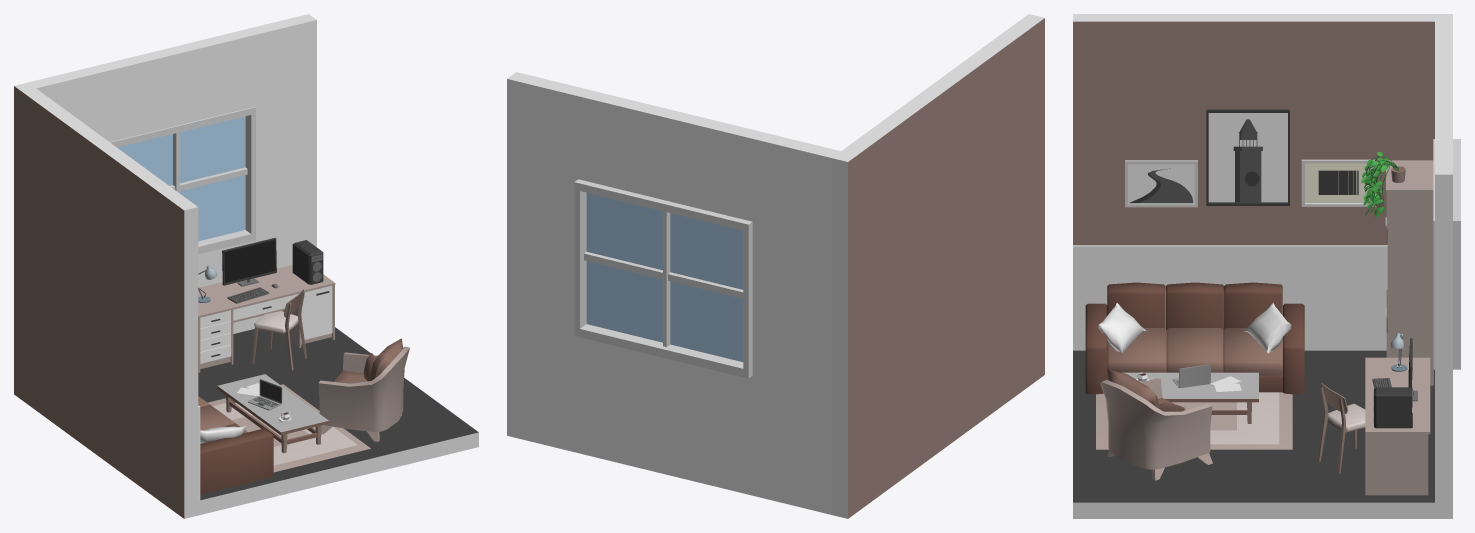
Rendered from room_17.glb.
3 renders of one model, left to right at view 1: azimuth 30°, elevation 25°; view 2: azimuth 150°, elevation 25°; view 3: azimuth 270°, elevation 25°, orthographic. The views are drawn at different scales.
Visible parts, largest first — view 1: Walls_149.003, Walls_011.009, Walls_006.053, Walls_006.055, window_008.002, office_table_014.001, armchair_017.002, sofa_027.001, coffee_table_019.003, carpet_003.001, Walls_006.051, electronics_031.010 (+4 smaller); view 2: Walls_149.003, Walls_006.051, window_008.002, Walls_006.053, Walls_006.054, Walls_006.055; view 3: Walls_149.003, Walls_011.009, sofa_027.001, Walls_003.076, closet_018.001, picture_001.003, armchair_017.002, office_table_014.001, Walls_006.053, carpet_003.001, picture_010.001, picture_011.002 (+8 smaller).
Boxes of the visible parts, left/top/right/bottom form: Walls_149.003: left=14, top=82, right=198, bottom=518; Walls_011.009: left=198, top=327, right=478, bottom=515; Walls_006.053: left=246, top=14, right=316, bottom=328; Walls_006.055: left=98, top=29, right=253, bottom=141; window_008.002: left=110, top=107, right=255, bottom=254; office_table_014.001: left=198, top=265, right=335, bottom=372; armchair_017.002: left=318, top=338, right=409, bottom=441; sofa_027.001: left=198, top=396, right=273, bottom=494; coffee_table_019.003: left=217, top=374, right=328, bottom=453; carpet_003.001: left=208, top=384, right=370, bottom=472; Walls_006.051: left=28, top=65, right=106, bottom=139; electronics_031.010: left=222, top=238, right=276, bottom=286; Walls_149.003: left=831, top=14, right=1044, bottom=518; Walls_006.051: left=750, top=131, right=840, bottom=514; window_008.002: left=574, top=179, right=752, bottom=378; Walls_006.053: left=507, top=72, right=588, bottom=453; Walls_006.054: left=580, top=337, right=750, bottom=494; Walls_006.055: left=580, top=90, right=759, bottom=220; Walls_149.003: left=1073, top=14, right=1452, bottom=245; Walls_011.009: left=1073, top=350, right=1434, bottom=518; sofa_027.001: left=1085, top=282, right=1304, bottom=394; Walls_003.076: left=1073, top=245, right=1387, bottom=350; closet_018.001: left=1385, top=160, right=1433, bottom=385; picture_001.003: left=1206, top=109, right=1289, bottom=205; armchair_017.002: left=1100, top=369, right=1212, bottom=480; office_table_014.001: left=1365, top=357, right=1430, bottom=495; Walls_006.053: left=1435, top=140, right=1452, bottom=518; carpet_003.001: left=1096, top=392, right=1292, bottom=449; picture_010.001: left=1125, top=160, right=1197, bottom=207; picture_011.002: left=1301, top=159, right=1375, bottom=206.
Bounding box in the file's own units: 4.2 × 4.2 × 4.29.
Materials: 1 (1 with a texture image).
